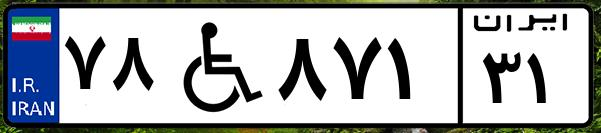1: (385, 28, 445, 110), (525, 38, 570, 115)
3: (475, 38, 525, 113)
7: (330, 28, 385, 110), (57, 26, 110, 100)
8: (270, 28, 330, 110), (110, 28, 158, 98)
ژ (معلولین و جانبازان): (158, 12, 270, 120)
